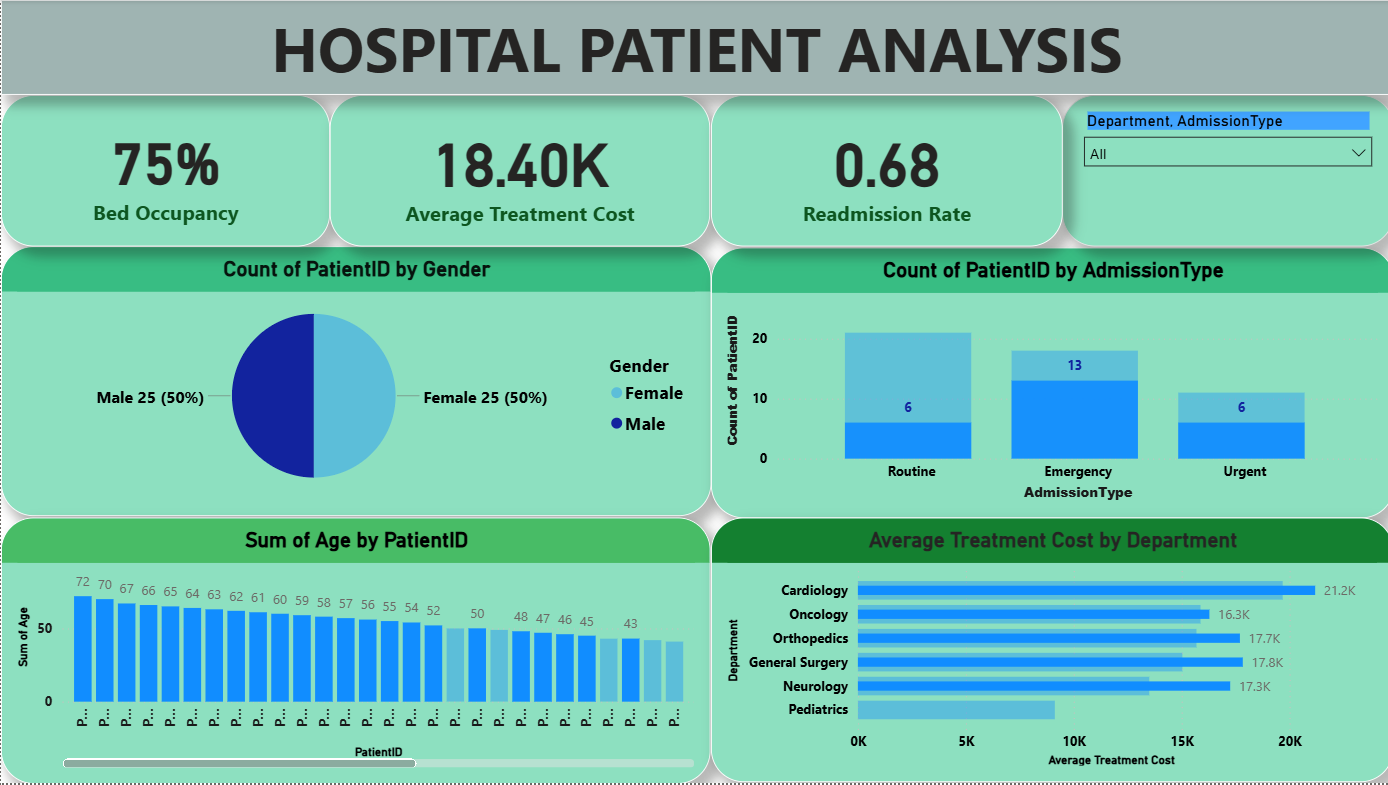

This screenshot's page, from the dashboard's own definition file:
{"tool":"powerbi","page":{"name":"Page 1","canvas":[1280,720],"ordinal":0},"visuals":[{"type":"pieChart","fields":{"Y":["CountNonNull(HospitalRecords.PatientID)"],"Category":["HospitalRecords.Gender"]},"box":[0,226.3,652.5,248.1],"z":0},{"type":"columnChart","fields":{"Category":["HospitalRecords.PatientID"],"Y":["Sum(HospitalRecords.Age)"]},"box":[0,475.5,652,245],"z":1000},{"type":"clusteredColumnChart","fields":{"Category":["HospitalRecords.AdmissionType"],"Y":["CountNonNull(HospitalRecords.PatientID)"]},"box":[652,226.9,628,248.6],"z":2000},{"type":"barChart","fields":{"Category":["HospitalRecords.Department"],"Y":["HospitalRecords.Average Treatment Cost"]},"box":[652.5,475.6,627.2,243.5],"z":3000},{"type":"card","fields":{"Values":["HospitalRecords.Bed Occupancy"]},"box":[0,87.7,302.6,139.3],"z":4000},{"type":"slicer","fields":{"Values":["HospitalRecords.Department","HospitalRecords.AdmissionType"]},"box":[975,87.7,305,139.3],"z":5000},{"type":"card","fields":{"Values":["HospitalRecords.Average Treatment Cost"]},"box":[302.6,87.7,349.4,139.3],"z":6000},{"type":"card","fields":{"Values":["HospitalRecords.Readmission Rate"]},"box":[652,87.7,323,139.3],"z":7000},{"type":"textbox","box":[0,0,1279.6,87.3],"z":8000}]}

Visuals, with their boxes in screenshot pixels (x1, y1, x2, y2), scaled from the page's 1280x720 canvas onto the 1388x785 screenshot:
pieChart - CountNonNull(HospitalRecords.PatientID) x HospitalRecords.Gender: x1=0 y1=247 x2=708 y2=517
columnChart - HospitalRecords.PatientID x Sum(HospitalRecords.Age): x1=0 y1=518 x2=707 y2=784
clusteredColumnChart - HospitalRecords.AdmissionType x CountNonNull(HospitalRecords.PatientID): x1=707 y1=247 x2=1387 y2=518
barChart - HospitalRecords.Department x HospitalRecords.Average Treatment Cost: x1=708 y1=519 x2=1387 y2=784
card - HospitalRecords.Bed Occupancy: x1=0 y1=96 x2=328 y2=247
slicer - HospitalRecords.Department x HospitalRecords.AdmissionType: x1=1057 y1=96 x2=1387 y2=247
card - HospitalRecords.Average Treatment Cost: x1=328 y1=96 x2=707 y2=247
card - HospitalRecords.Readmission Rate: x1=707 y1=96 x2=1057 y2=247
textbox: x1=0 y1=0 x2=1387 y2=95
